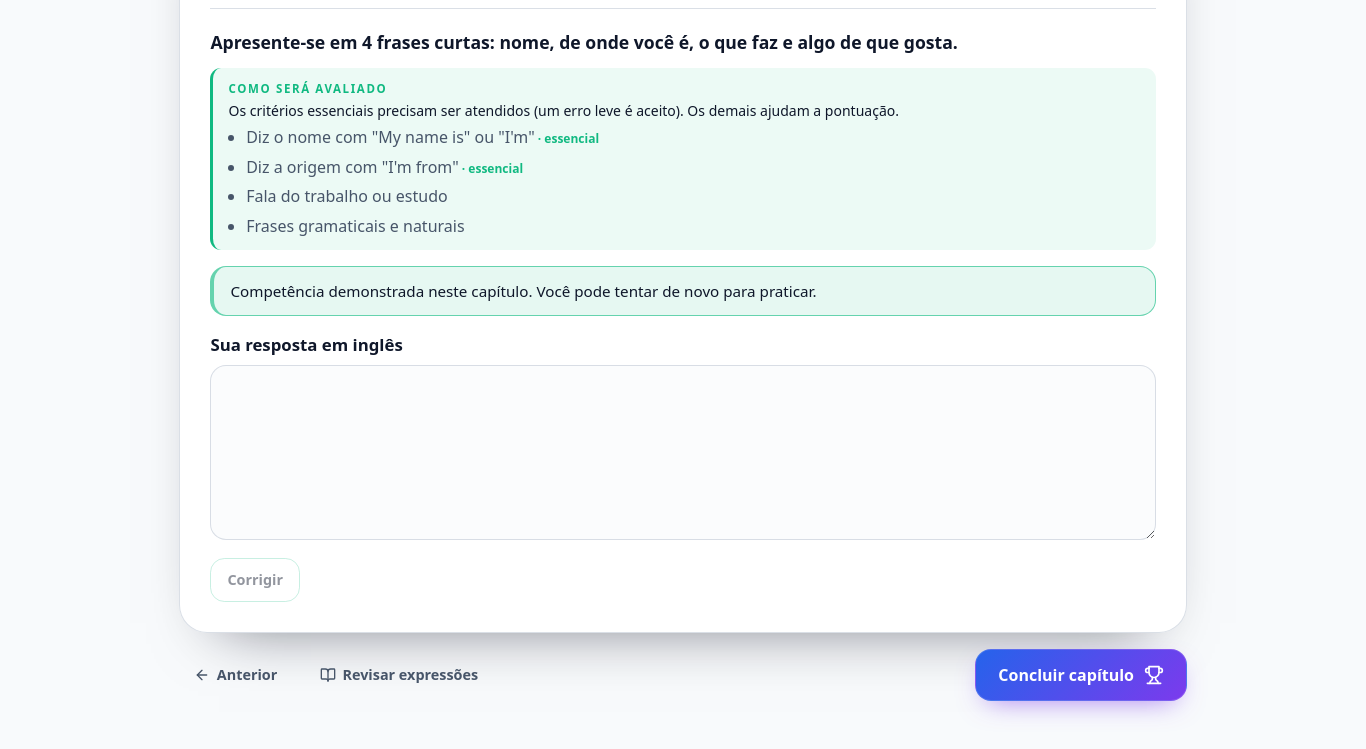
it: Journey 2.0 chapter completion › completes once, unlocks the next chapter and celebrates
(page scrolled)
Step 1. Click the button "Concluir capítulo" → point(1081, 675), box [975,649,1187,701]
(page scrolled)
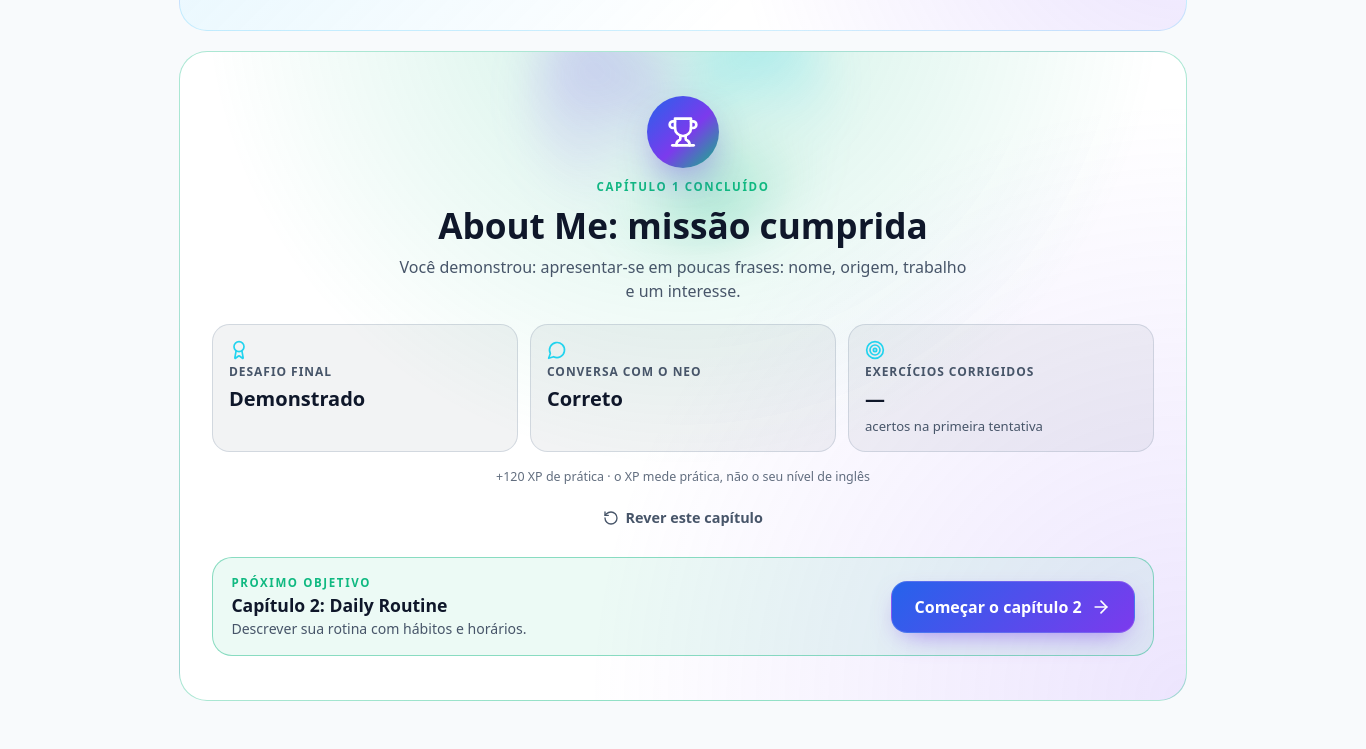
Now the heading "About Me: missão cumprida" is shown, box [438,205,928,245]
Now the button "Começar o capítulo 2" is shown, box [891,581,1135,633]
